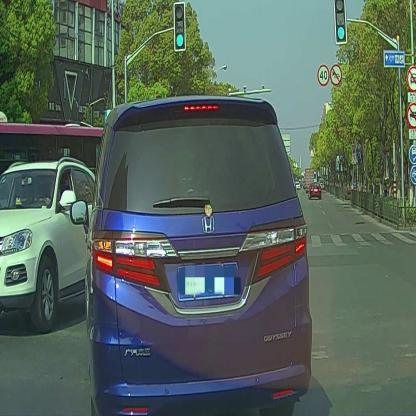Green Light: (172, 0, 186, 52), (334, 0, 348, 45)
